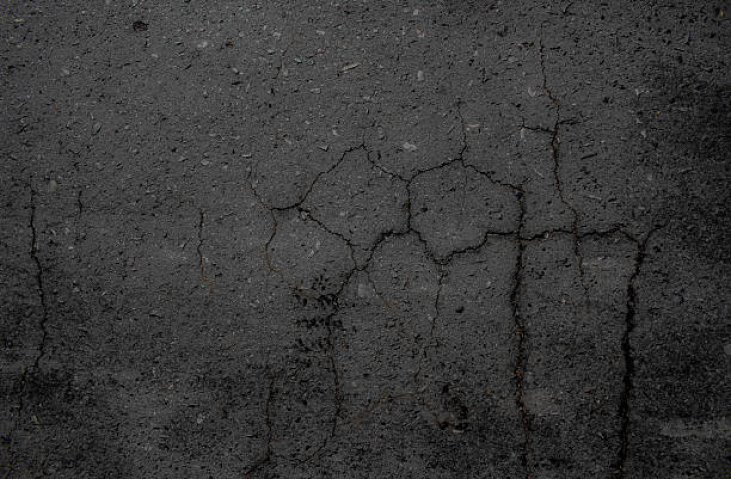Retak Buaya: (241, 155, 671, 479), (18, 166, 60, 418), (529, 30, 583, 196), (447, 99, 494, 183), (248, 41, 310, 104), (188, 190, 216, 295), (638, 88, 662, 141)
